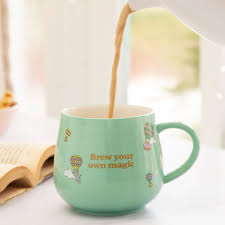mug: (50, 99, 214, 225)
